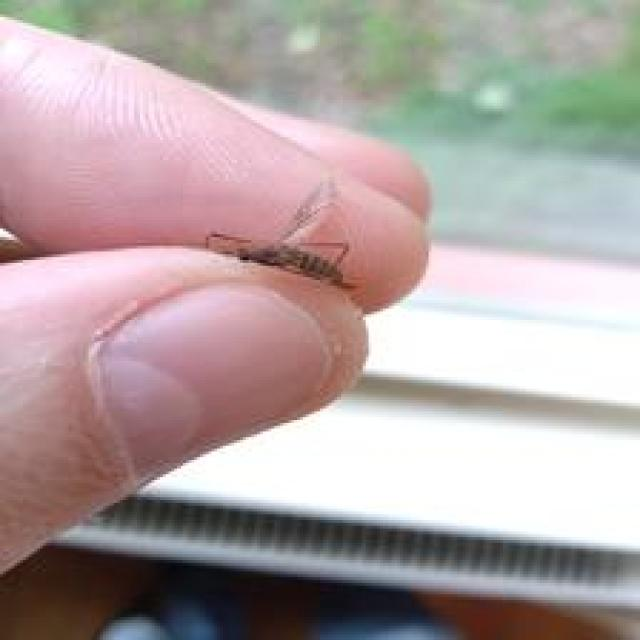Culex: (204, 176, 359, 293)
